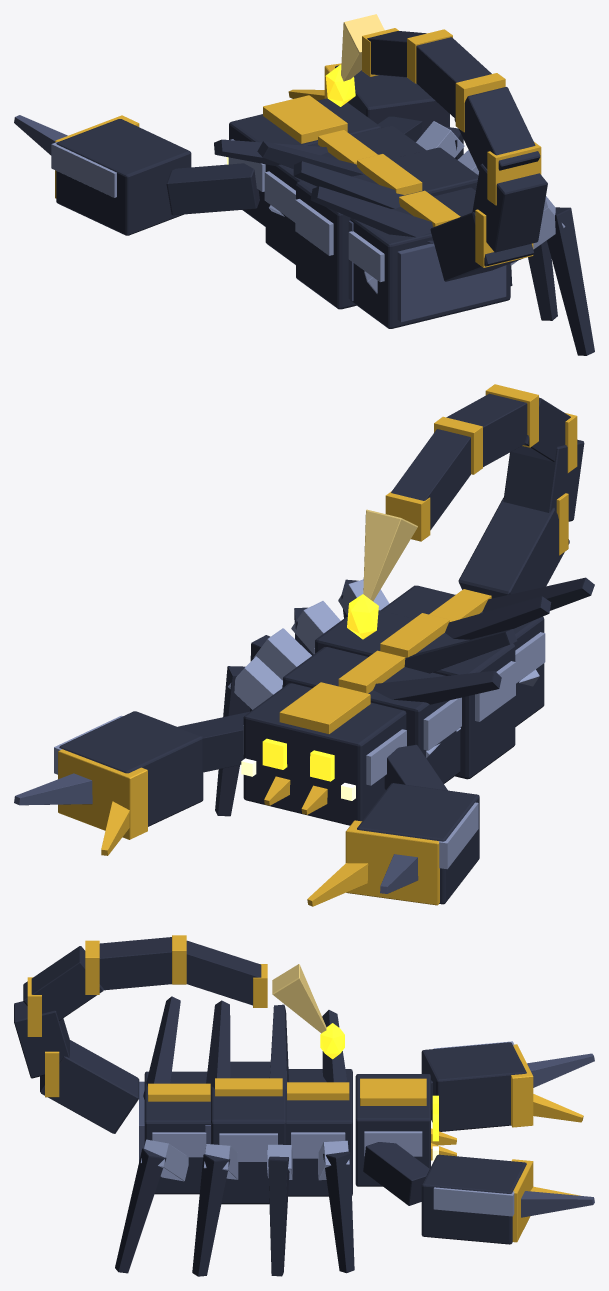
File: scorpio.glb
The picture shows the model from 3 angles, top to bottom: view 1: azimuth 30°, elevation 25°; view 2: azimuth 150°, elevation 25°; view 3: azimuth 270°, elevation 25°; orthographic projection. The views are drawn at different scales.
Visible parts, largest first — view 1: body, tail, arm.R, leg.BL, head, leg.BR, arm.L, leg.FR, leg.FL; view 2: tail, body, head, arm.L, arm.R, leg.FL, leg.FR, leg.BR, leg.BL; view 3: tail, body, arm.L, arm.R, head, leg.BL, leg.FL, leg.BR, leg.FR.
Boxes of the visible parts, x1=… form: body: x1=264, y1=126, x2=510, y2=328; tail: x1=325, y1=14, x2=547, y2=281; arm.R: x1=14, y1=115, x2=259, y2=235; leg.BL: x1=510, y1=196, x2=594, y2=355; head: x1=226, y1=95, x2=381, y2=226; leg.BR: x1=293, y1=161, x2=433, y2=293; arm.L: x1=288, y1=63, x2=449, y2=142; leg.FR: x1=214, y1=139, x2=363, y2=216; leg.FL: x1=416, y1=121, x2=512, y2=285; tail: x1=347, y1=384, x2=584, y2=639; body: x1=282, y1=585, x2=545, y2=783; head: x1=241, y1=682, x2=406, y2=825; arm.L: x1=14, y1=711, x2=249, y2=855; arm.R: x1=307, y1=744, x2=479, y2=906; leg.FL: x1=215, y1=628, x2=311, y2=816; leg.FR: x1=373, y1=629, x2=517, y2=757; leg.BR: x1=445, y1=577, x2=594, y2=686; leg.BL: x1=291, y1=579, x2=389, y2=655; tail: x1=14, y1=935, x2=344, y2=1133; body: x1=139, y1=1061, x2=352, y2=1204; arm.L: x1=363, y1=1142, x2=594, y2=1244; arm.R: x1=421, y1=1041, x2=594, y2=1131; head: x1=355, y1=1074, x2=456, y2=1186; leg.BL: x1=115, y1=1139, x2=238, y2=1276; leg.FL: x1=267, y1=1140, x2=354, y2=1276; leg.BR: x1=143, y1=996, x2=230, y2=1099; leg.FR: x1=269, y1=1004, x2=346, y2=1095.
Size of the model in its own units: 0.8998 by 0.7552 by 1.43.
